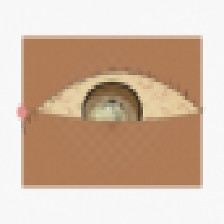corneal_ulcer: (78, 95, 138, 142)
